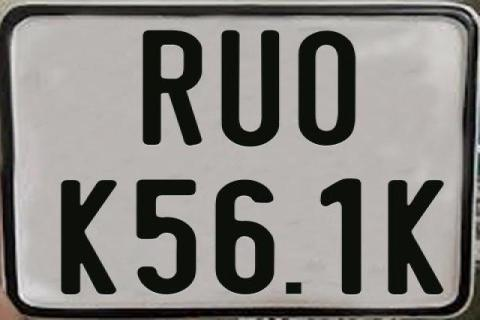0: (135, 177, 201, 297), (298, 28, 362, 148), (213, 178, 276, 294), (320, 176, 366, 296)
K: (386, 179, 445, 297), (59, 178, 115, 294)
R: (142, 31, 203, 150)
U: (221, 29, 280, 149)
